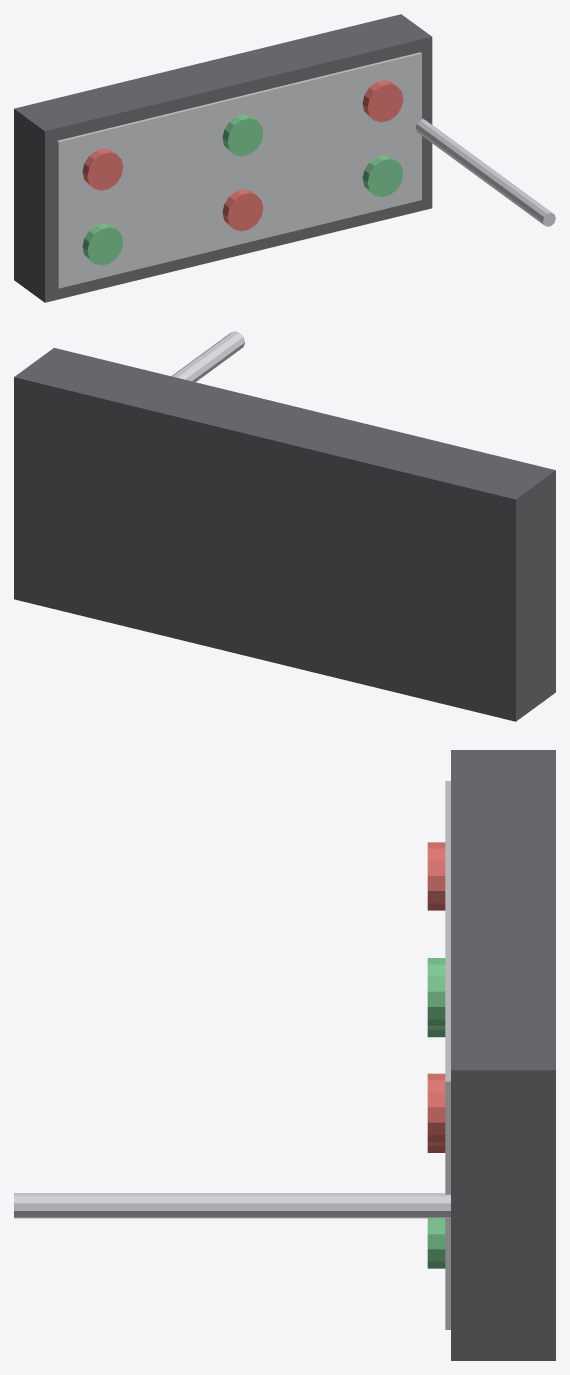
Rendered from remote_control.glb.
3 views of the same model, one above another, from view 1: azimuth 30°, elevation 25°; view 2: azimuth 150°, elevation 25°; view 3: azimuth 270°, elevation 25° (orthographic). The views are drawn at different scales.
Visible parts, largest first — view 1: plastic_gray, metal_black, plastic_green, plastic_red, steel; view 2: metal_black, steel; view 3: metal_black, steel, plastic_gray, plastic_red, plastic_green.
Part boxes in pixels (x1,y1,x2,y2): plastic_gray: (57,52,421,288); metal_black: (14,14,432,302); plastic_green: (82,114,403,265); plastic_red: (82,80,403,231); steel: (415,118,555,226); metal_black: (14,348,555,721); steel: (171,331,245,382); metal_black: (451,750,555,1360); steel: (14,1193,450,1218); plastic_gray: (445,781,450,1329); plastic_red: (427,842,445,1152); plastic_green: (427,958,445,1268).
Bounding box in the file's own units: 0.13 × 0.055 × 0.093.
